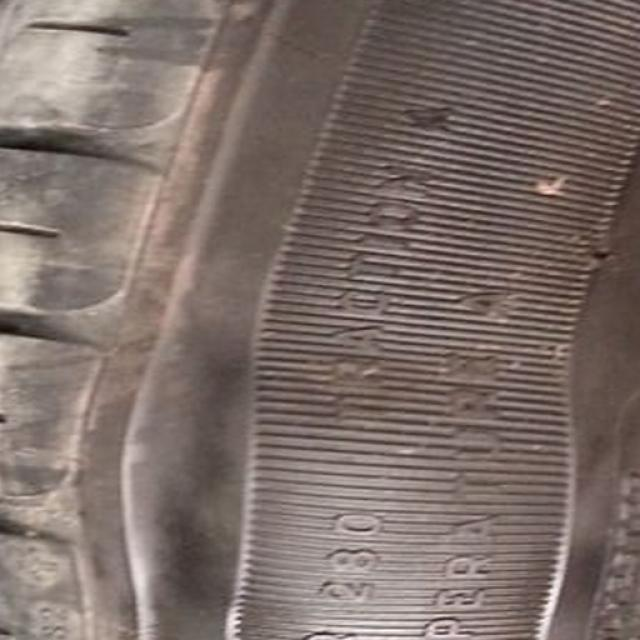Bulge: (107, 310, 640, 631)
